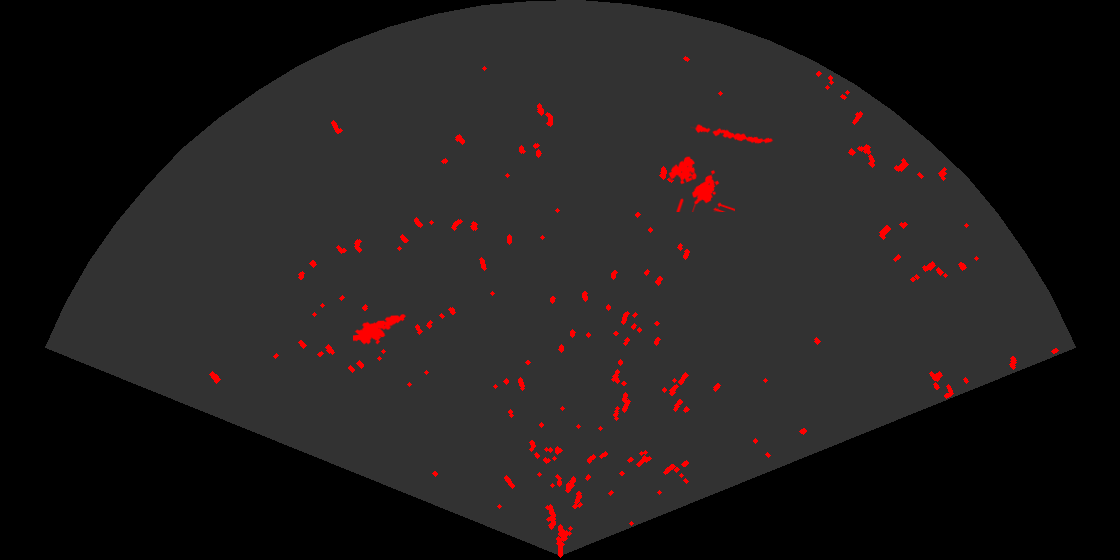cage: (667, 155, 735, 212)
chain: (690, 123, 774, 145)
frogman: (353, 313, 408, 346)
